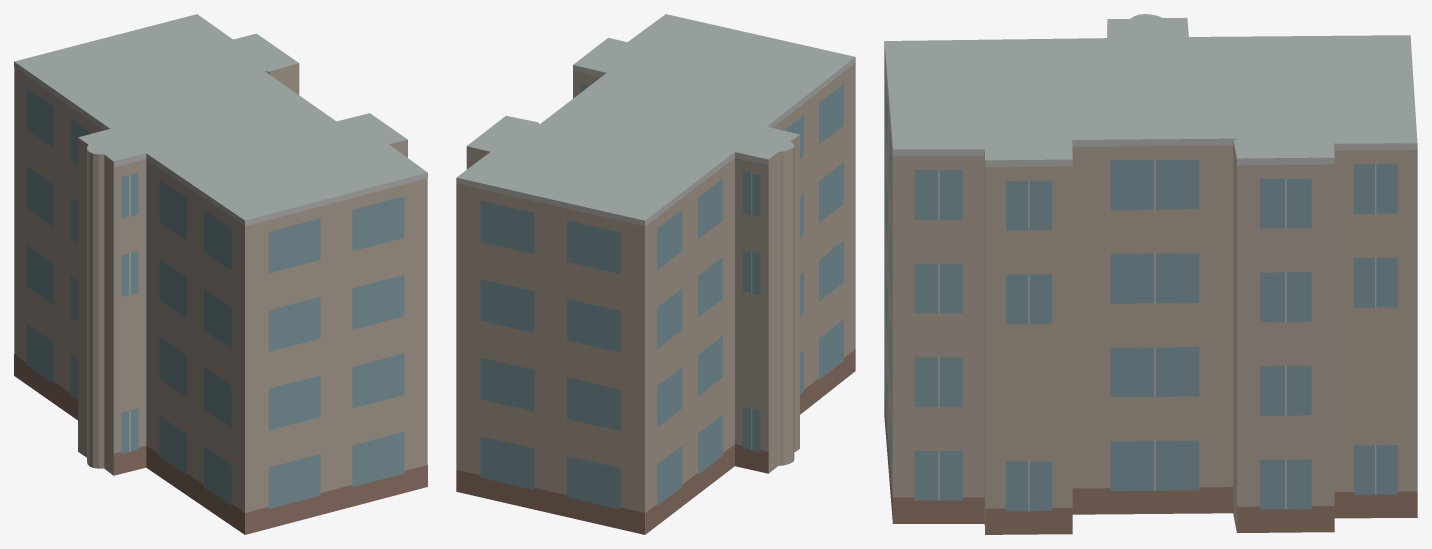
The model's file is survey-upis-32860617.glb.
3 views of the same model, side by side, from view 1: azimuth 30°, elevation 25°; view 2: azimuth 150°, elevation 25°; view 3: azimuth 270°, elevation 25° (orthographic). The views are drawn at different scales.
Parts seen in each view (by area): view 1: survey-upis-32860617.tmp; view 2: survey-upis-32860617.tmp; view 3: survey-upis-32860617.tmp.
Boxes of the visible parts, x1,y1,x2,y2 form: survey-upis-32860617.tmp: (14, 14, 427, 534); survey-upis-32860617.tmp: (456, 14, 855, 534); survey-upis-32860617.tmp: (884, 14, 1417, 534).
Size of the model in its own units: 11.24 by 13.4 by 17.3.
